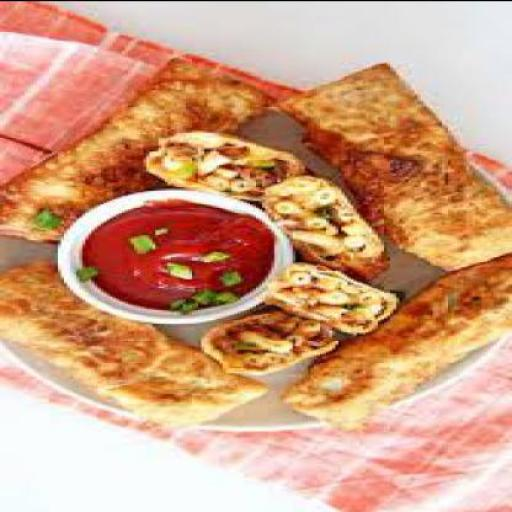biodegradable: (0, 58, 274, 244), (274, 65, 508, 273), (0, 264, 262, 428), (277, 257, 509, 432), (76, 201, 268, 312), (259, 178, 387, 276), (253, 259, 399, 338), (140, 131, 296, 200), (198, 310, 332, 379), (27, 206, 64, 231), (122, 236, 155, 255), (164, 264, 195, 278), (213, 272, 244, 286), (73, 266, 98, 282), (189, 292, 216, 305), (198, 253, 229, 263), (213, 292, 235, 304), (167, 304, 186, 313), (150, 230, 168, 236)
